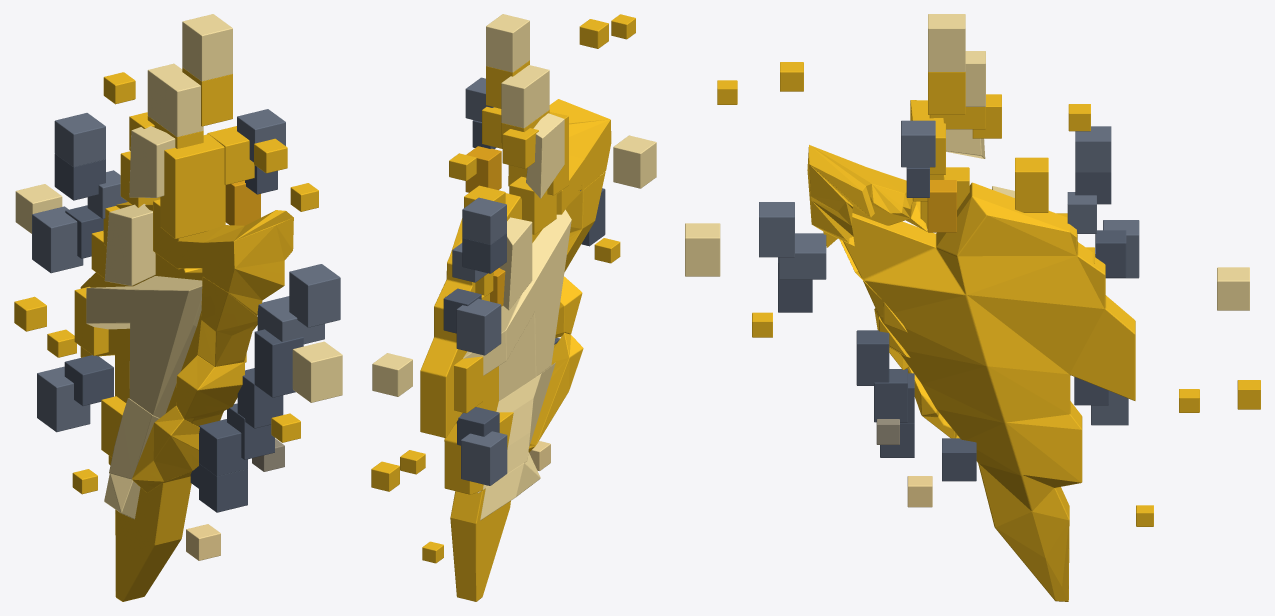
The model's file is SM_Blender_Storm.glb.
3 renders of one model, left to right at view 1: azimuth 30°, elevation 25°; view 2: azimuth 150°, elevation 25°; view 3: azimuth 270°, elevation 25°, orthographic. The views are drawn at different scales.
Visible parts, largest first — view 1: SM_Blender_Storm; view 2: SM_Blender_Storm; view 3: SM_Blender_Storm.
Boxes of the visible parts, x1=… form: SM_Blender_Storm: x1=14, y1=14, x2=342, y2=601; SM_Blender_Storm: x1=371, y1=14, x2=656, y2=601; SM_Blender_Storm: x1=685, y1=14, x2=1260, y2=601.
Size of the model in its own units: 0.3238 by 1.46 by 1.3.
2 materials, 2 textured.
